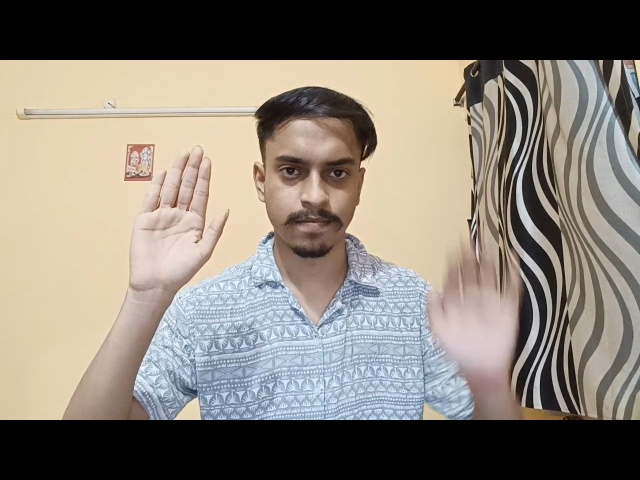Hello: (419, 209, 539, 389), (111, 152, 241, 304)
